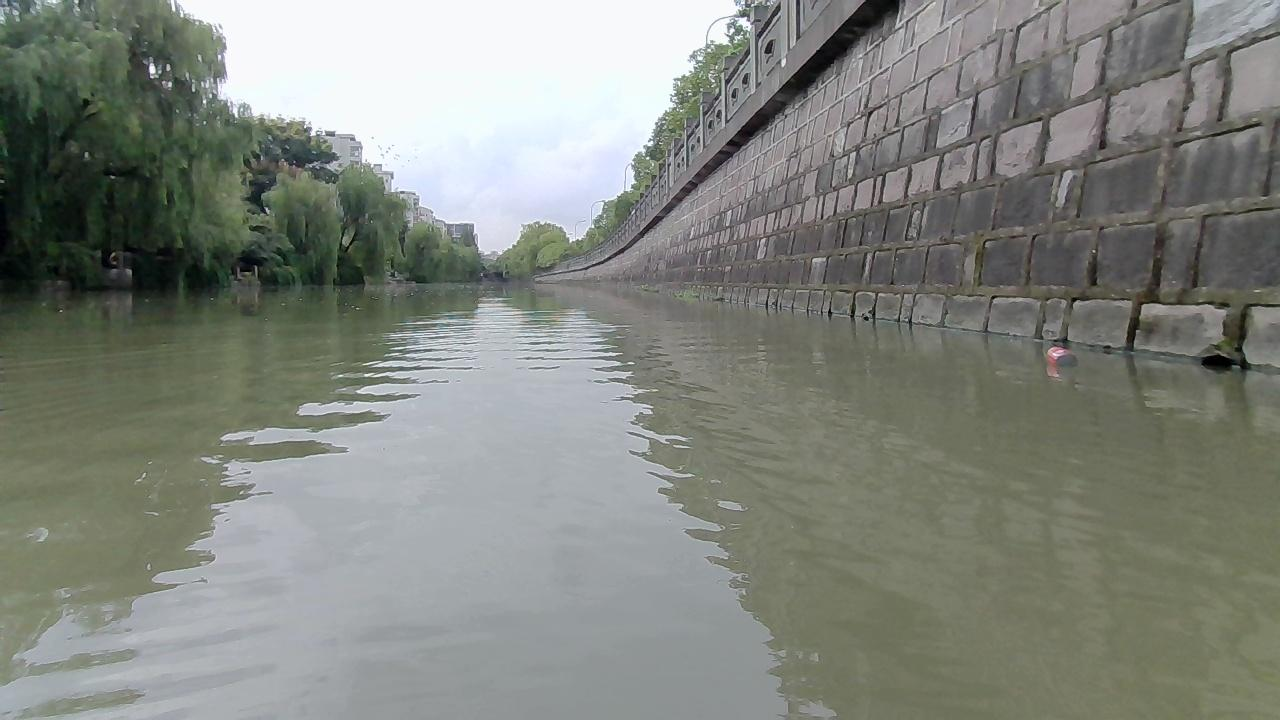bottle: (1044, 345, 1077, 366)
